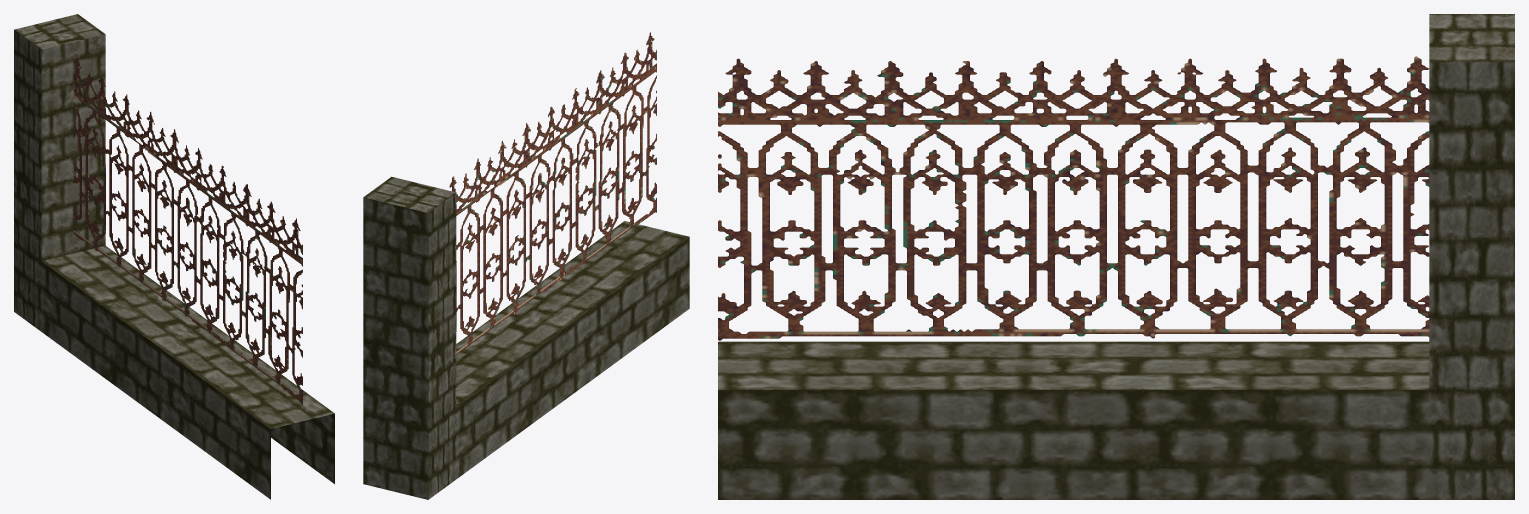
The model's file is valla.fbx.
3 renders of one model, left to right at view 1: azimuth 30°, elevation 25°; view 2: azimuth 150°, elevation 25°; view 3: azimuth 270°, elevation 25°, orthographic. The views are drawn at different scales.
Parts seen in each view (by area): view 1: valla, metal; view 2: valla, metal; view 3: valla, metal.
Part boxes in pixels (<box>): valla: <box>14,14,334,499</box>; metal: <box>73,57,302,404</box>; valla: <box>363,176,689,499</box>; metal: <box>449,32,656,354</box>; valla: <box>718,14,1514,499</box>; metal: <box>718,56,1429,340</box>.
Size of the model in its own units: 322 by 46.18 by 195.
2 materials, 2 textured.
